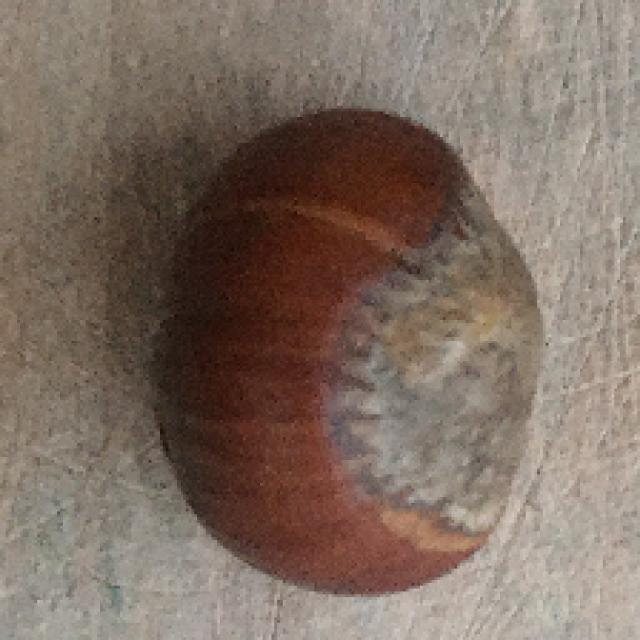damagedHazelnut: (154, 96, 536, 585)
